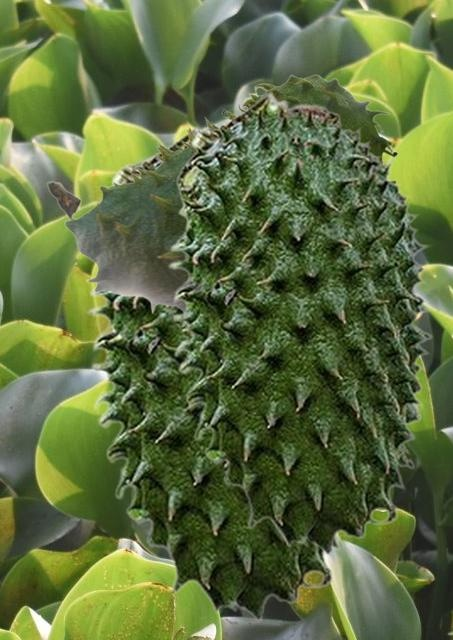guyabano: (87, 124, 358, 621), (168, 90, 433, 555), (46, 74, 397, 327)
